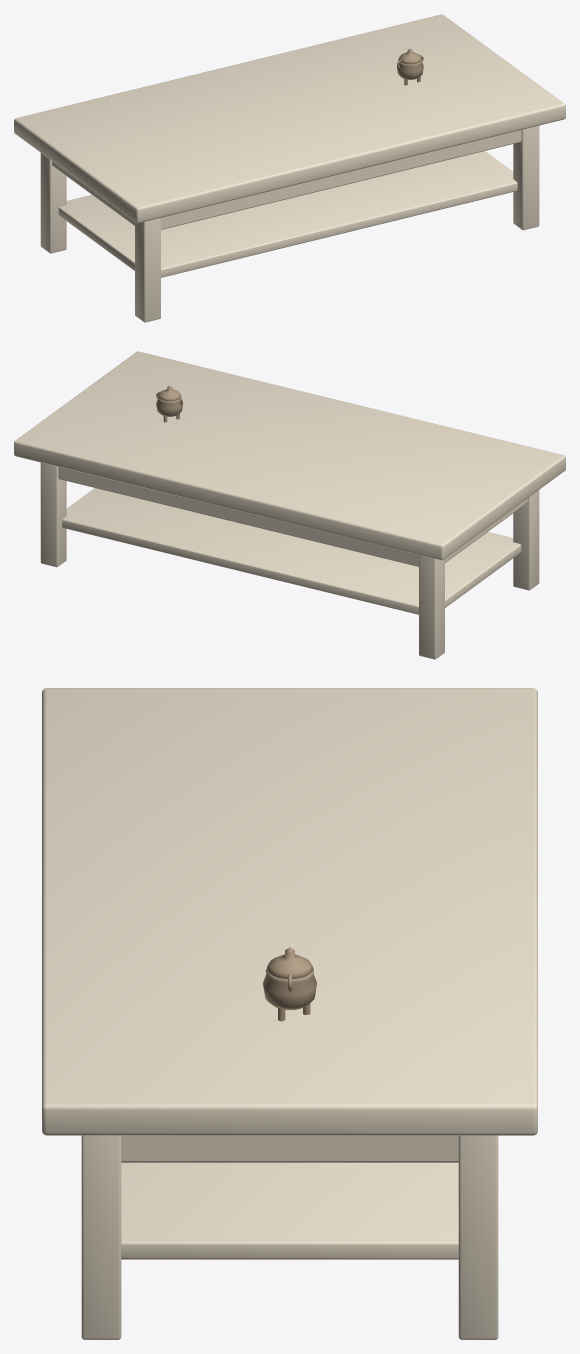
File: sg_coffee_table.glb
3 views of the same model, one above another, from view 1: azimuth 30°, elevation 25°; view 2: azimuth 150°, elevation 25°; view 3: azimuth 270°, elevation 25° (orthographic). The views are drawn at different scales.
Parts seen in each view (by area): view 1: top, shelf, apron, leg00, leg10, leg01, burner_body; view 2: top, shelf, apron, leg01, leg11, leg00, burner_body; view 3: top, shelf, apron, leg10, leg11, burner_body, burner_lid.
Boxes of the visible parts, box(x1,y1,x2,y2) form: top: box(14, 14, 565, 223); shelf: box(58, 151, 517, 277); apron: box(52, 130, 521, 229); leg00: box(135, 218, 160, 322); leg10: box(513, 125, 539, 230); leg01: box(40, 153, 66, 253); burner_body: box(396, 59, 423, 79); top: box(14, 351, 565, 560); shelf: box(62, 488, 521, 614); apron: box(58, 467, 527, 566); leg01: box(419, 555, 444, 659); leg11: box(40, 462, 66, 567); leg00: box(513, 490, 539, 590); burner_body: box(156, 396, 183, 416); top: box(42, 688, 537, 1135); shelf: box(121, 1162, 458, 1259); apron: box(121, 1135, 458, 1162); leg10: box(81, 1135, 121, 1339); leg11: box(458, 1135, 498, 1339); burner_body: box(263, 969, 316, 1009); burner_lid: box(266, 947, 313, 978).
Bounding box in the file's own units: 1 × 0.3535 × 0.5.
